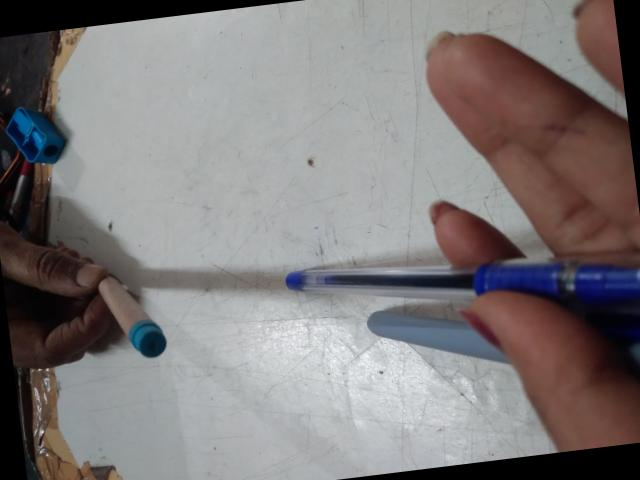PEN: (99, 282, 254, 480), (113, 93, 235, 197)
